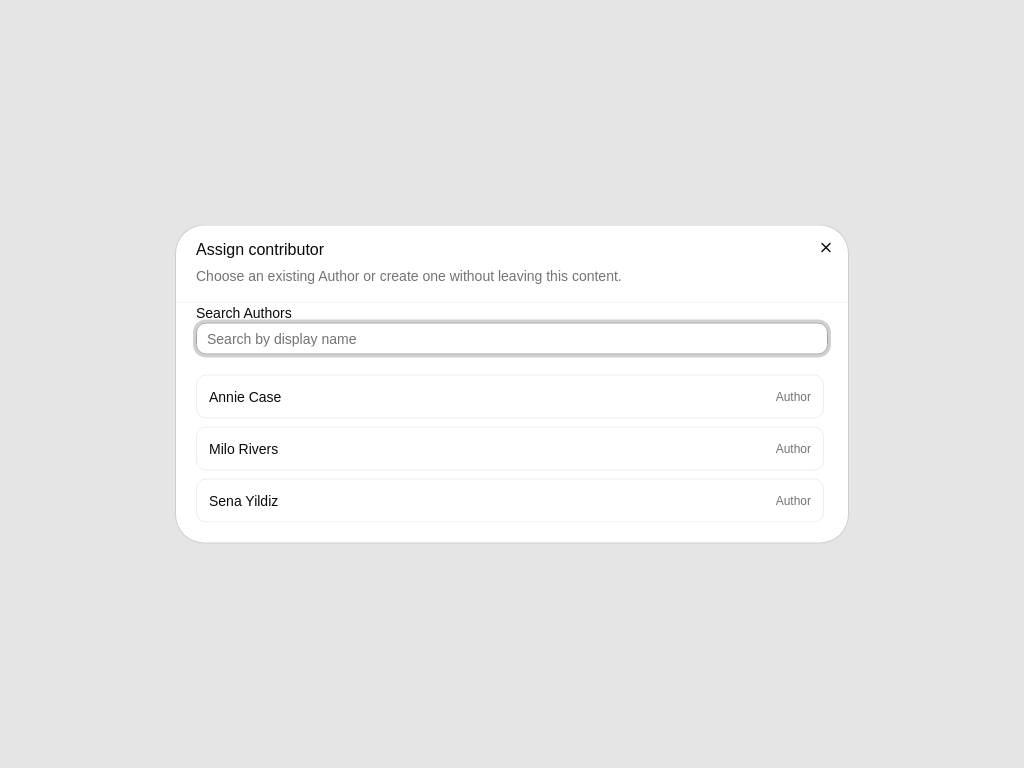
AssignContributorDialog › keeps long picker results in a bounded scroll region
The width and height of the screenshot is (1024, 768).
Click the option "Annie Case Author".
click(245, 396)  # box [196,374,824,418]
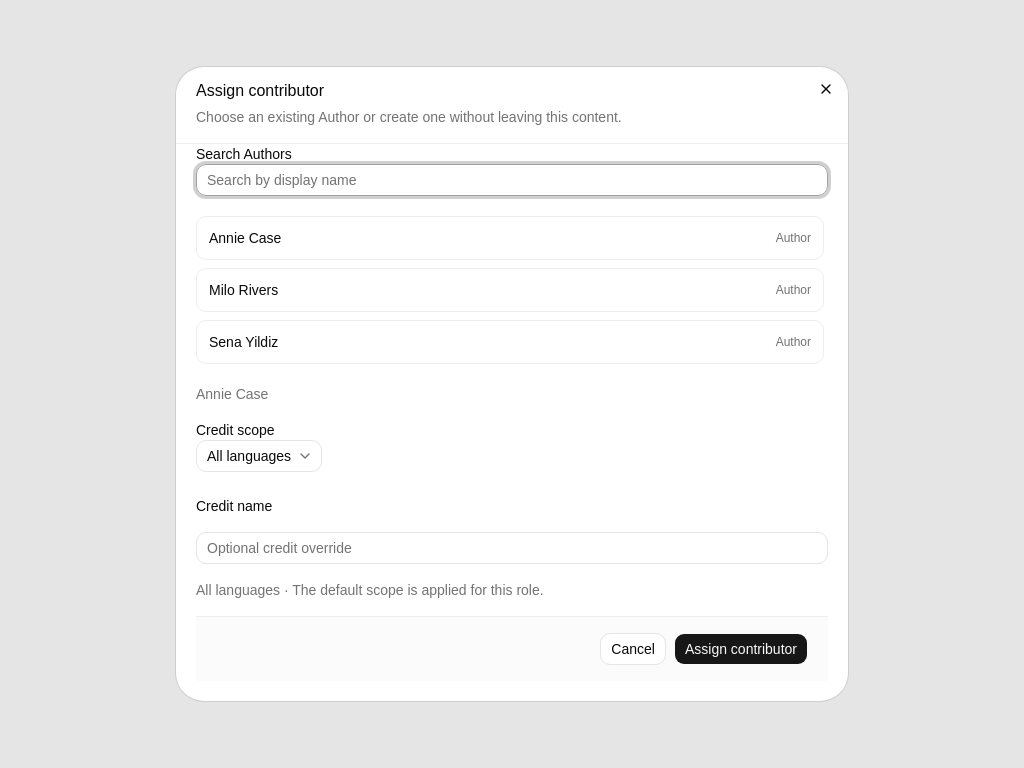
Expected: the button "Assign contributor" is shown, [674,633,808,665]
